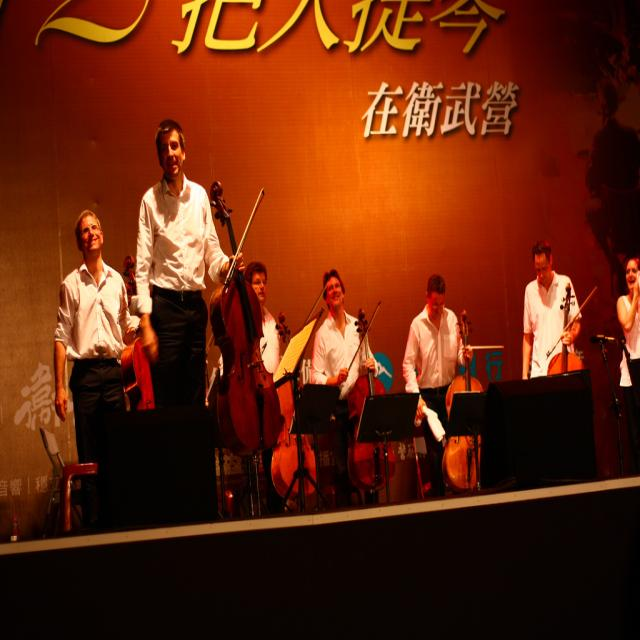cello: (208, 180, 283, 462), (348, 305, 398, 497), (270, 309, 319, 501), (440, 323, 485, 495), (116, 254, 156, 410), (544, 283, 588, 375)
